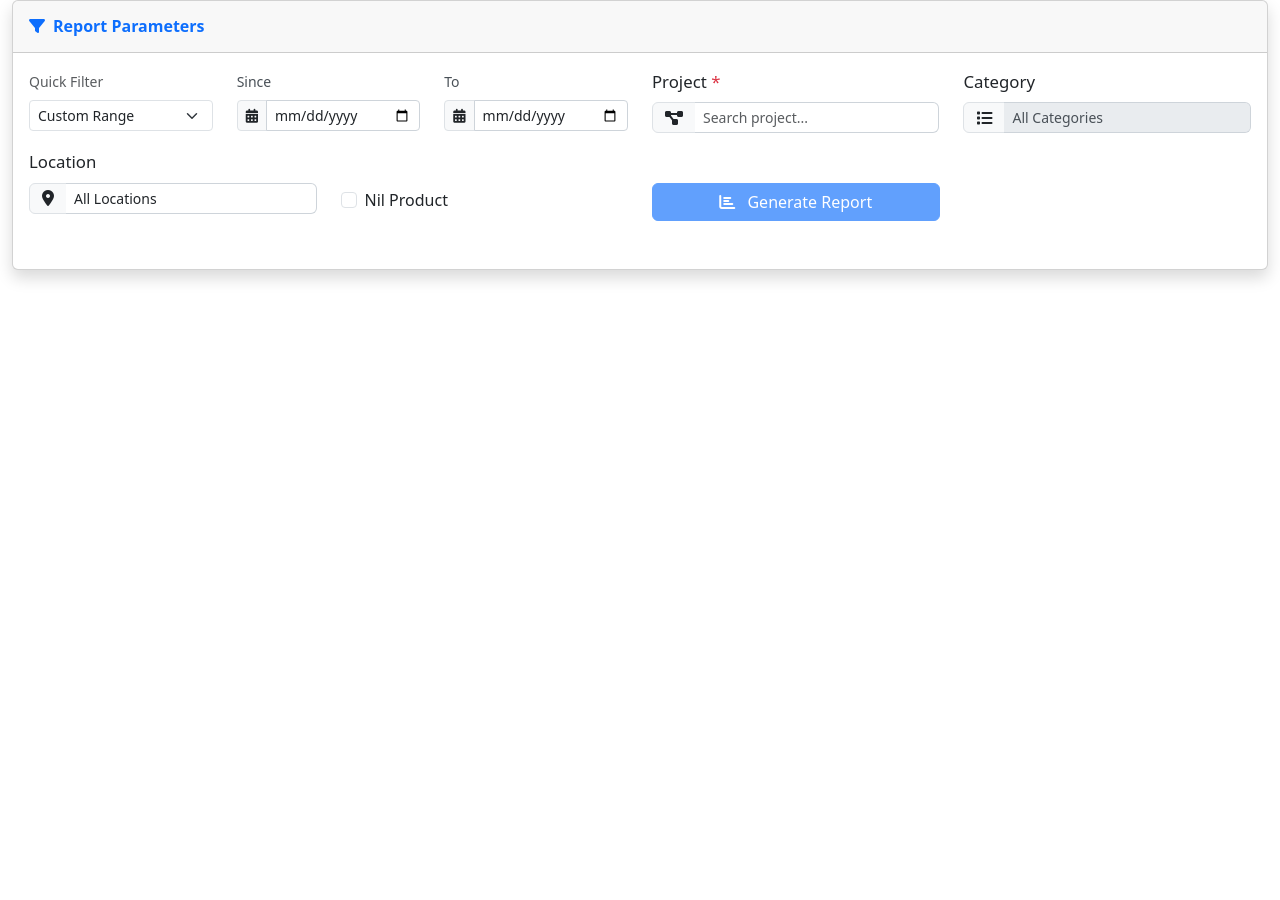
Scenario: ProductReport stock breakdown › does not offer a breakdown when the generated report already targets one location
Type "Project One" into the field labelled "project". click: {"x": 817, "y": 118}
box: [695, 102, 940, 133]
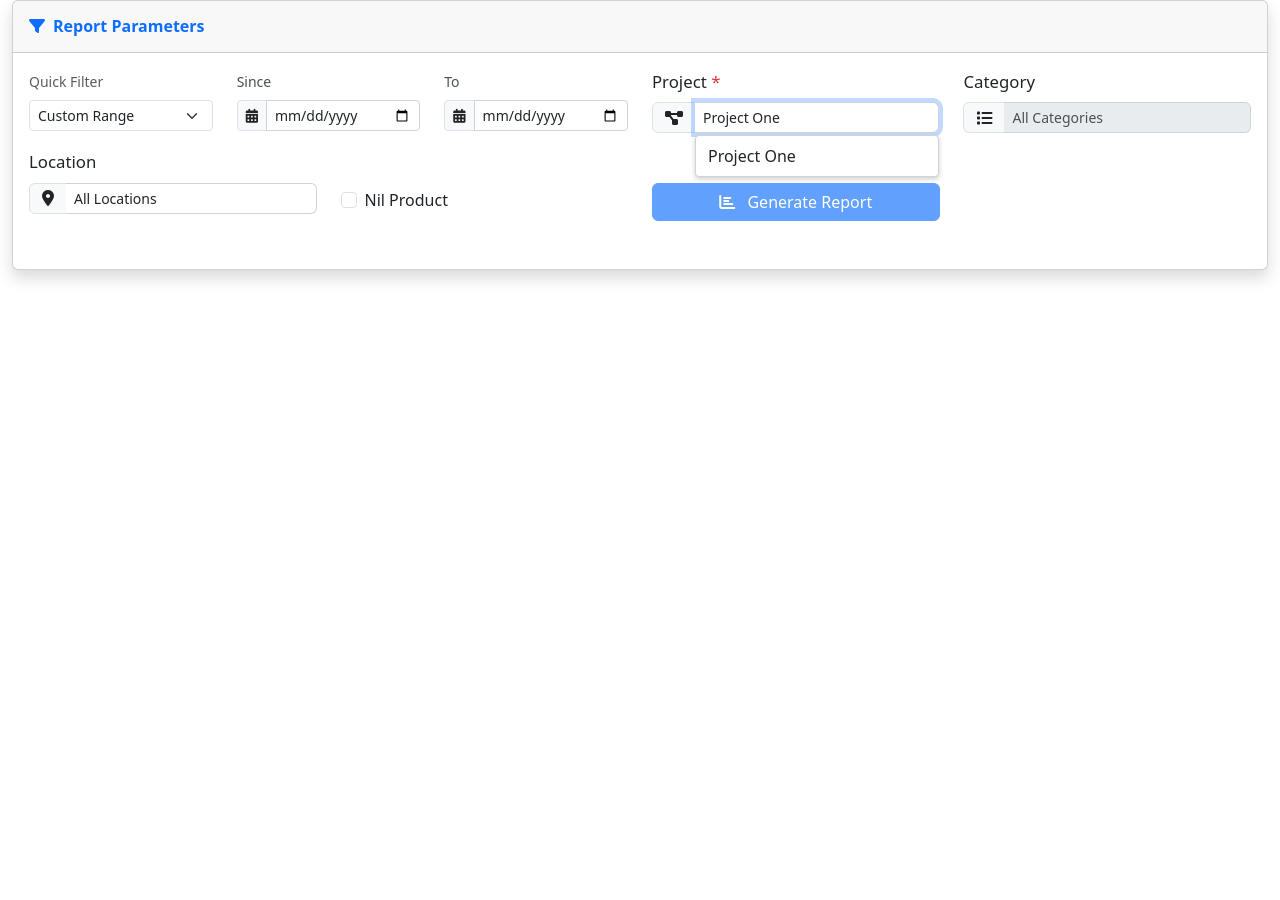
Click the text "Project One". click: {"x": 752, "y": 156}
box: [708, 145, 796, 167]
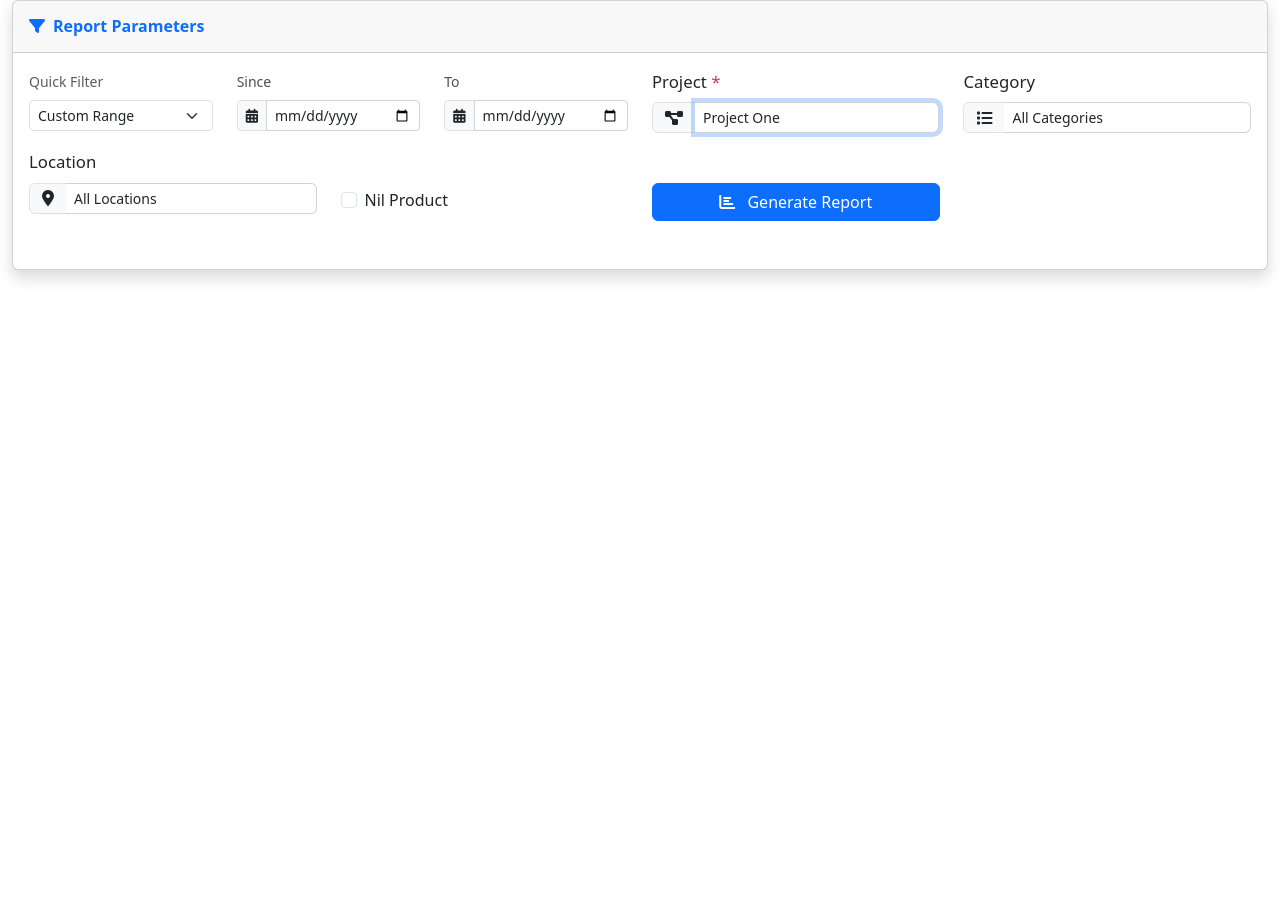
Replace the text in the field named "location" with "Warehouse X". click: {"x": 191, "y": 198}
box: [66, 183, 316, 214]
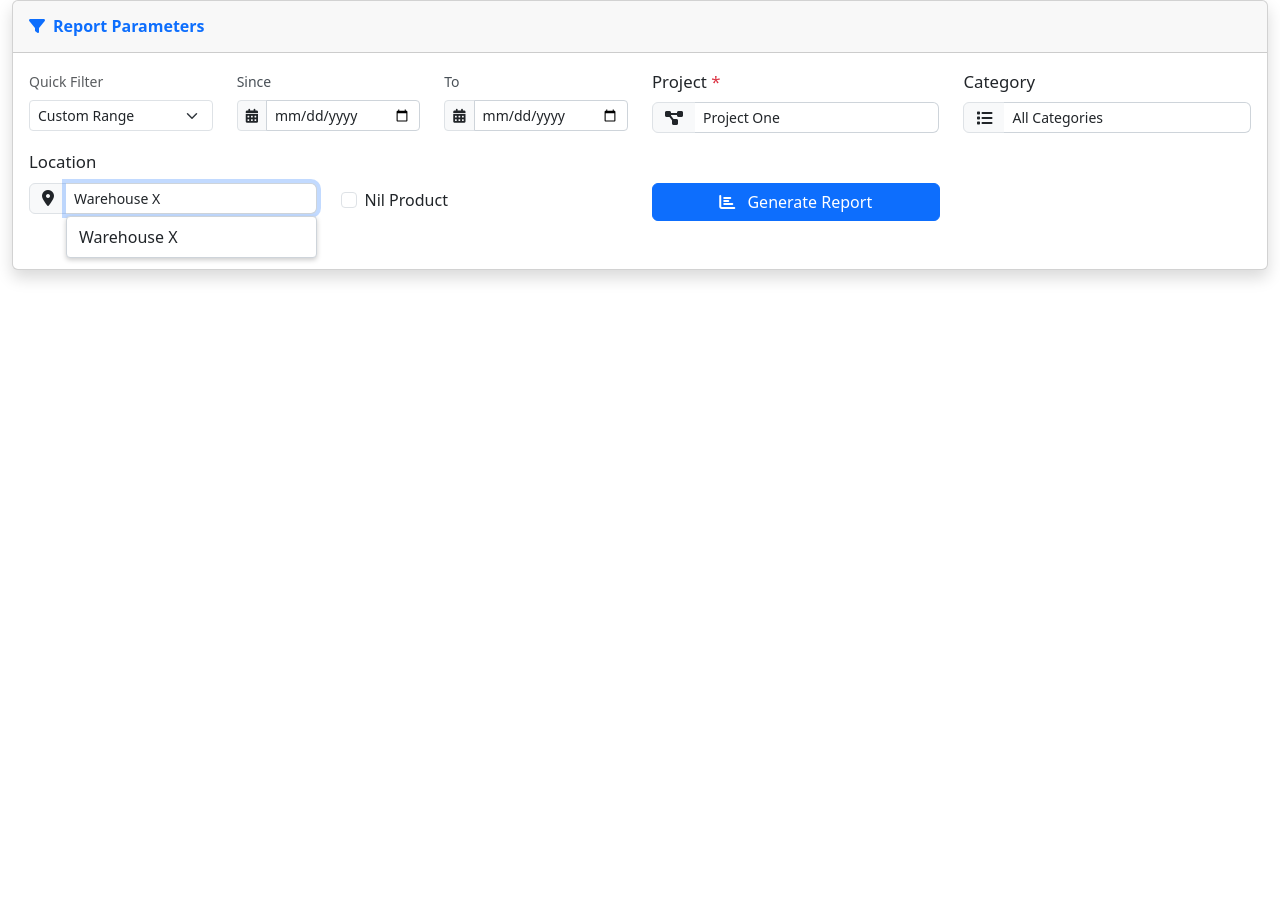
Click the text "Warehouse X". click: {"x": 128, "y": 237}
box: [79, 226, 178, 248]
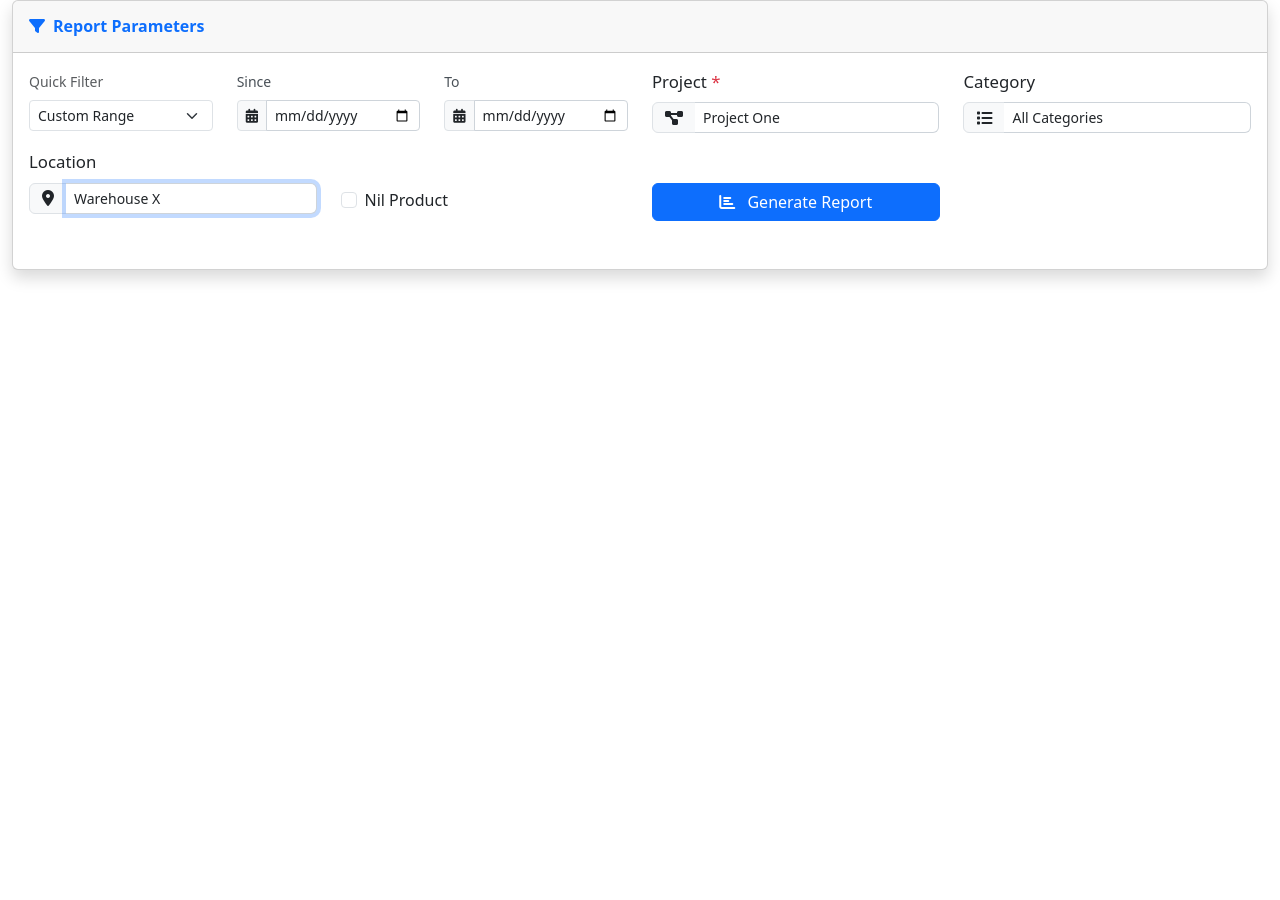
Click the button "Generate Report". click: {"x": 796, "y": 202}
box: [652, 183, 940, 221]
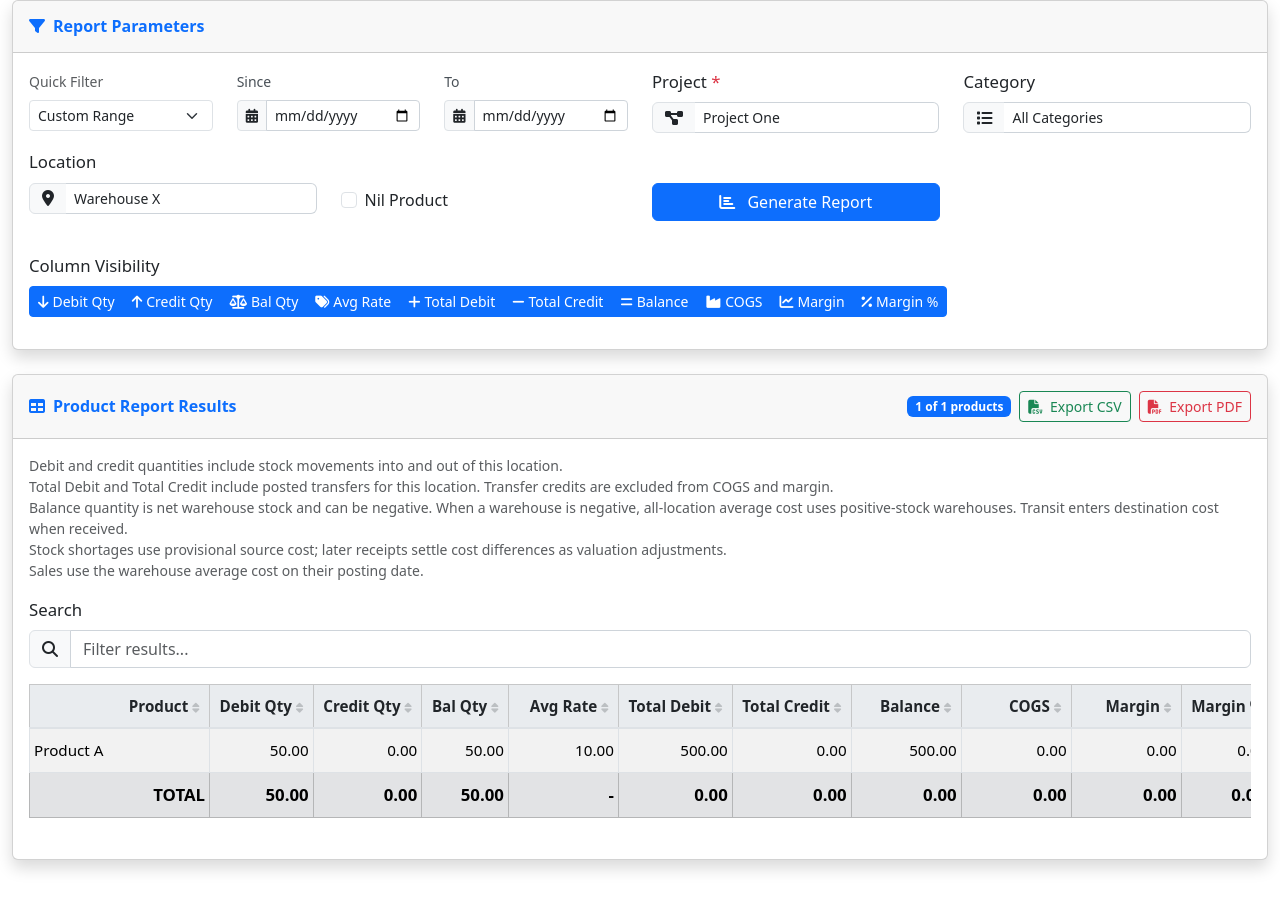
Expected: the text "Product A" is shown, [30, 728, 210, 772]
